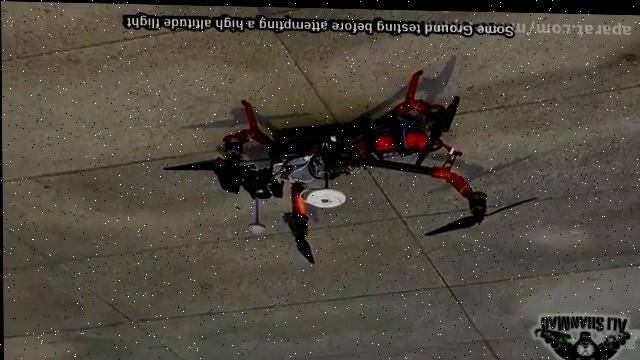drone: (160, 58, 542, 270)
